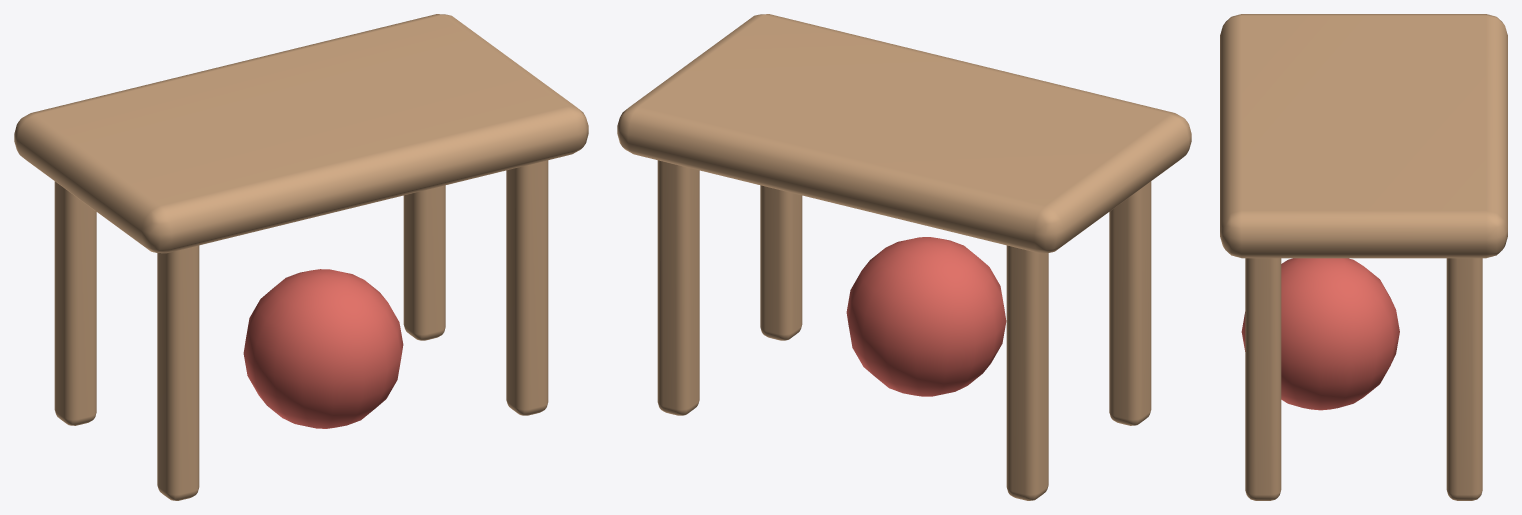
File: ava-position-under.glb
The picture shows the model from 3 angles, left to right: view 1: azimuth 30°, elevation 25°; view 2: azimuth 150°, elevation 25°; view 3: azimuth 270°, elevation 25°; orthographic projection.
Parts seen in each view (by area): view 1: table top, location ball, table leg, table leg.002, table leg.001, table leg.003; view 2: table top, location ball, table leg.001, table leg.003, table leg, table leg.002; view 3: table top, location ball, table leg.002, table leg.003.
Part boxes in pixels (x1,y1,x2,y2): table top: (14, 14, 588, 253); location ball: (243, 269, 403, 428); table leg: (157, 245, 199, 500); table leg.002: (506, 160, 548, 415); table leg.001: (54, 181, 96, 425); table leg.003: (403, 185, 445, 340); table top: (617, 14, 1191, 253); location ball: (846, 237, 1006, 396); table leg.001: (1006, 245, 1048, 500); table leg.003: (657, 160, 699, 415); table leg: (1109, 181, 1151, 425); table leg.002: (760, 185, 802, 340); table top: (1220, 14, 1507, 258); location ball: (1241, 258, 1399, 410); table leg.002: (1245, 258, 1281, 500); table leg.003: (1446, 258, 1482, 500).
Size of the model in its own units: 1.4 by 0.92 by 0.8.
